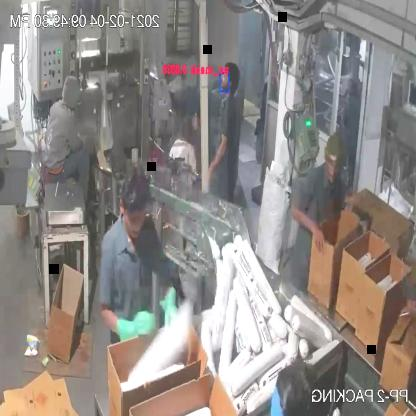glove: (110, 301, 158, 348), (157, 276, 182, 341)
no_glove: (284, 198, 328, 256), (202, 130, 232, 184)
